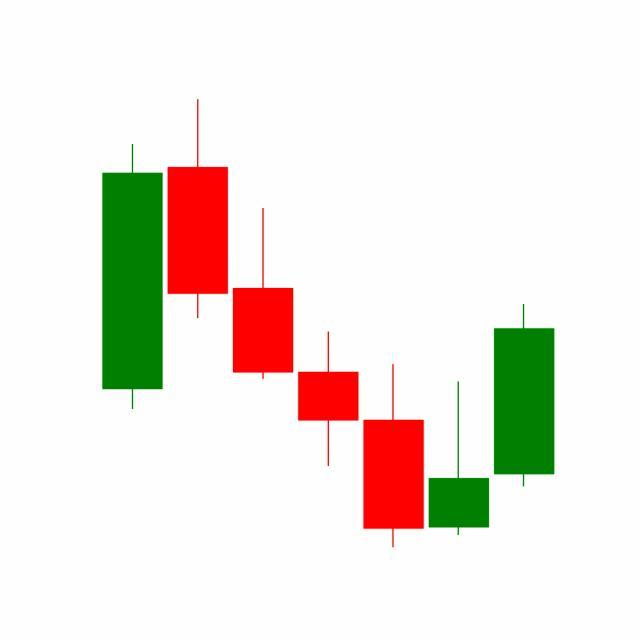Hikkake Pattern: (229, 203, 555, 548)
